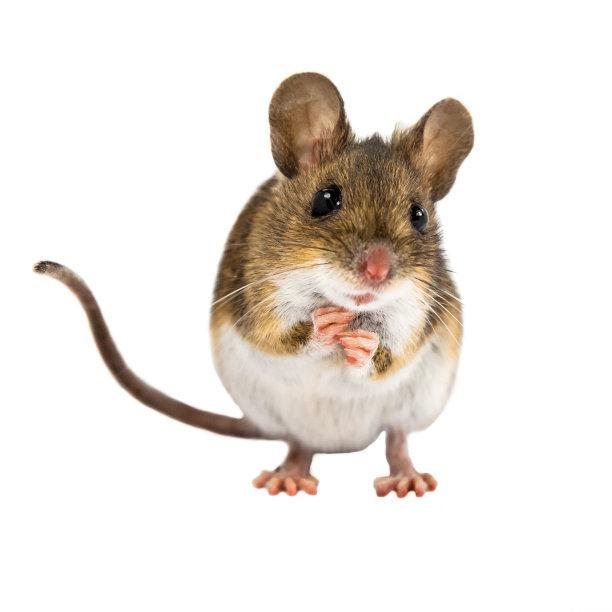rat: (192, 66, 475, 487)
